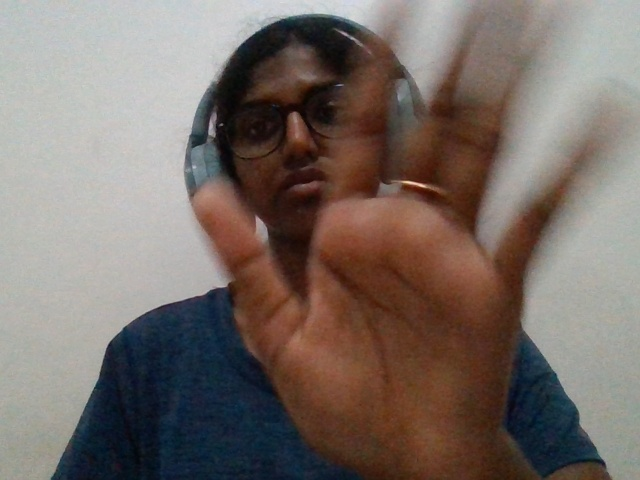Bye: (129, 2, 639, 480)
